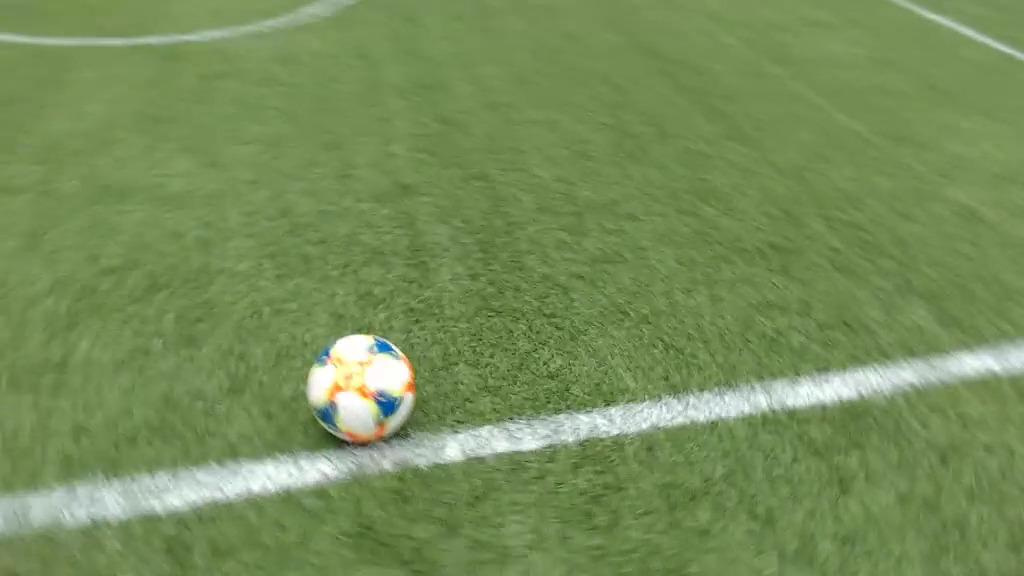ball: (295, 314, 434, 459)
